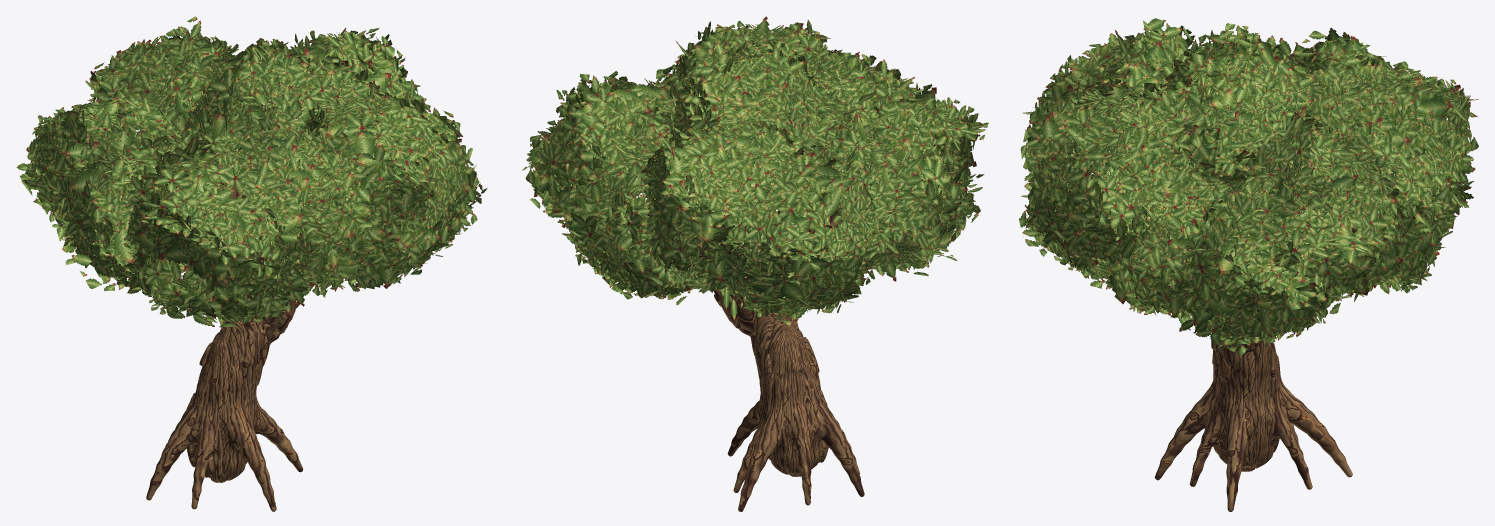
Rendered from macieira_anterior_LOD_A.glb.
3 renders of one model, left to right at view 1: azimuth 30°, elevation 25°; view 2: azimuth 150°, elevation 25°; view 3: azimuth 270°, elevation 25°, orthographic. The views are drawn at different scales.
Parts seen in each view (by area): view 1: macieira_inclinada; view 2: macieira_inclinada; view 3: macieira_inclinada.
Boxes of the visible parts, x1,y1,x2,y2 form: macieira_inclinada: (16,16,487,511); macieira_inclinada: (522,16,988,511); macieira_inclinada: (1019,18,1478,511).
Bounding box in the file's own units: 6.1 × 6.3 × 5.72.
2 materials, 2 textured.
